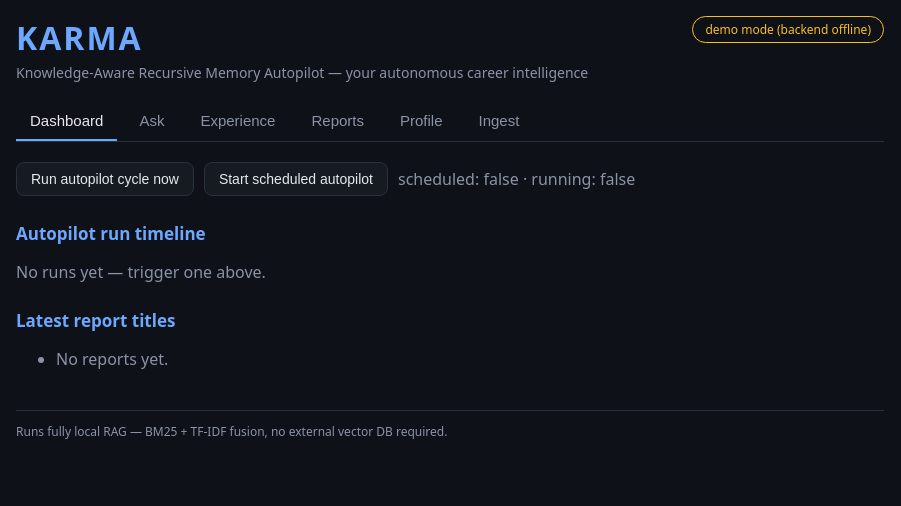
Ask (RAG UI) › submits a question and shows the cited answer
Click the button with test id "tab-Ask". click: (152, 122)
box: x1=125 y1=102 x2=178 y2=141
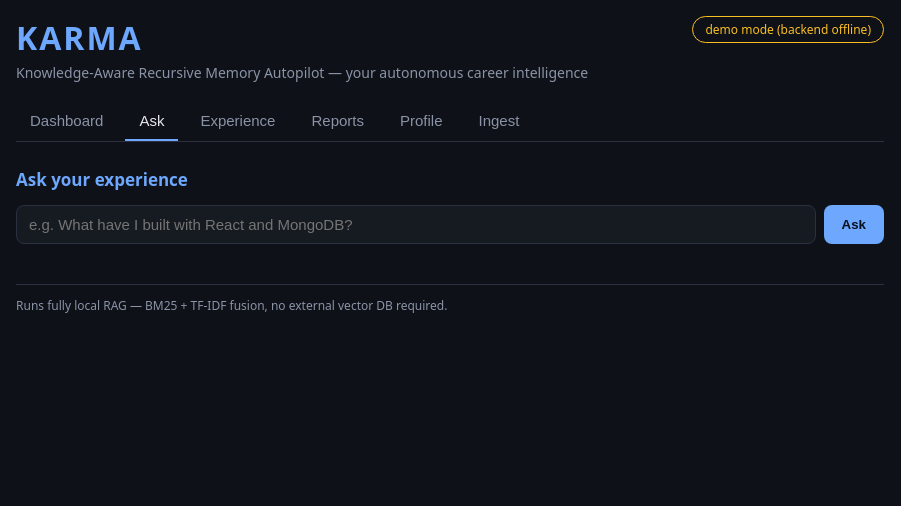
Type "What have I built with React?" into the field with test id "ask-input". click: (416, 225)
box: x1=16 y1=205 x2=816 y2=244
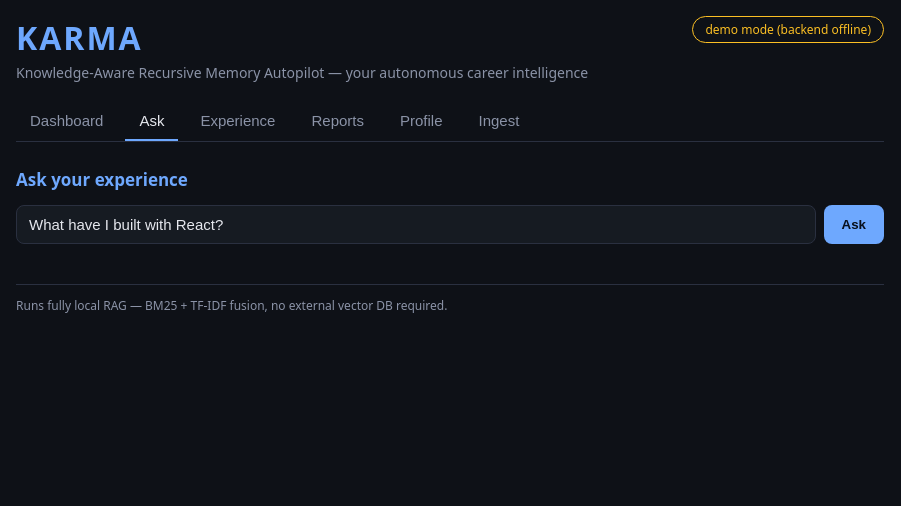
Click the button with test id "ask-submit". click: (854, 225)
box: x1=824 y1=205 x2=884 y2=244
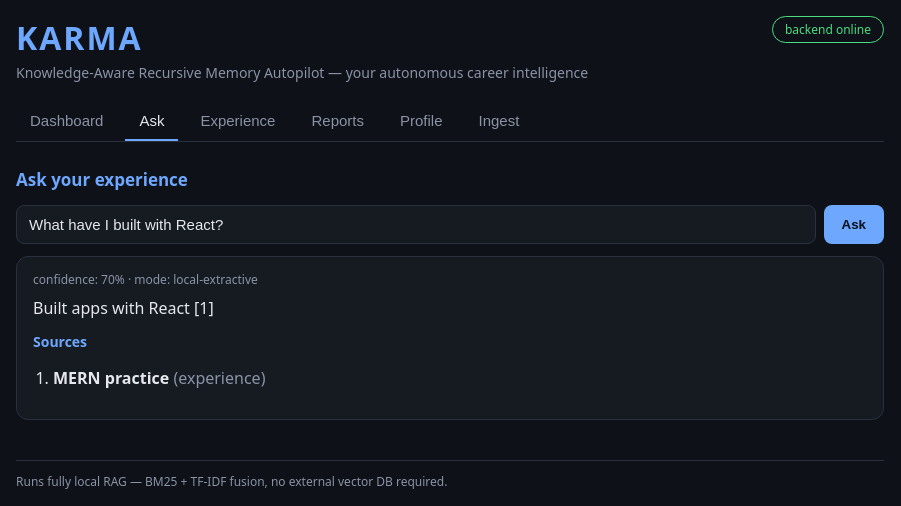
Check: the element with test id "answer-card" is shown, box x1=16 y1=256 x2=884 y2=420
Check: the text "Built apps with React [1]" is shown, box x1=33 y1=297 x2=214 y2=319
Check: the text "MERN practice" is shown, box x1=53 y1=367 x2=169 y2=389
